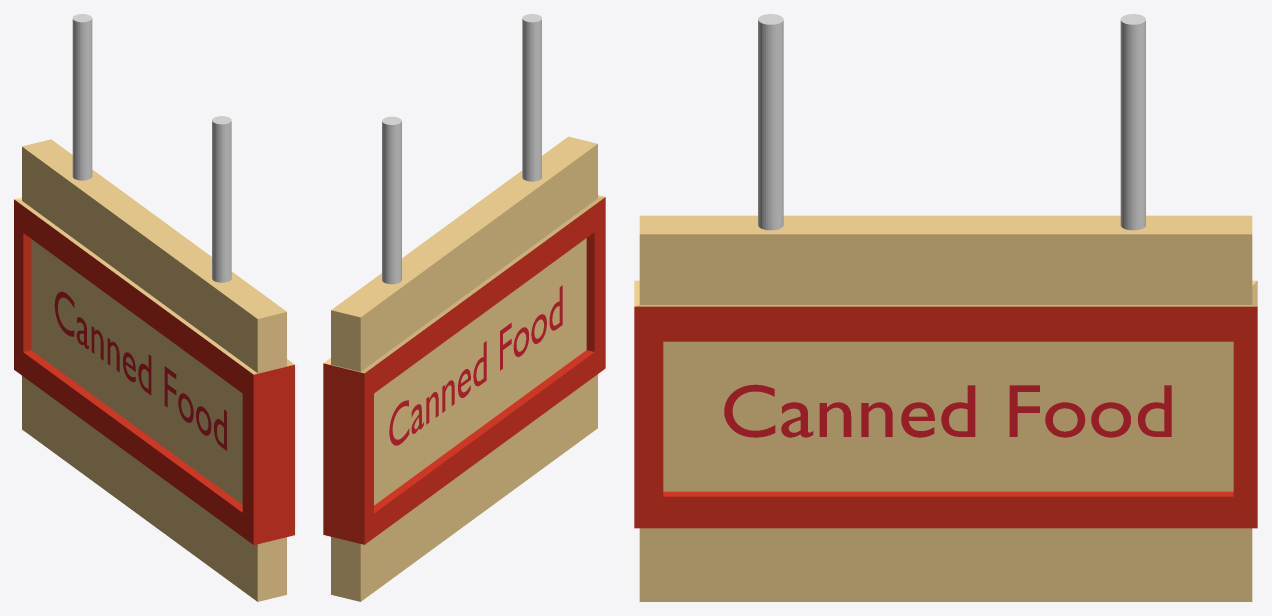
Rendered from cannedFoodSign.fbx.
3 renders of one model, left to right at view 1: azimuth 30°, elevation 25°; view 2: azimuth 150°, elevation 25°; view 3: azimuth 270°, elevation 25°, orthographic. The views are drawn at different scales.
Parts seen in each view (by area): view 1: baseSign, Cylinder.001, Cylinder.000, BaseText.001; view 2: baseSign, Cylinder.001, Cylinder.000, BaseText.001; view 3: baseSign, BaseText.000, Cylinder.001, Cylinder.000.
Part boxes in pixels (box(x1,y1,x2,y2)): baseSign: box(14, 139, 294, 601); Cylinder.001: box(72, 14, 92, 180); Cylinder.000: box(212, 116, 231, 282); BaseText.001: box(54, 291, 226, 450); baseSign: box(323, 136, 605, 601); Cylinder.001: box(382, 116, 401, 284); Cylinder.000: box(522, 14, 541, 181); BaseText.001: box(389, 285, 562, 445); baseSign: box(634, 215, 1257, 601); BaseText.000: box(724, 384, 1171, 437); Cylinder.001: box(1120, 14, 1145, 230); Cylinder.000: box(758, 14, 783, 230).
Size of the model in its own units: 42.35 by 434 by 427.
